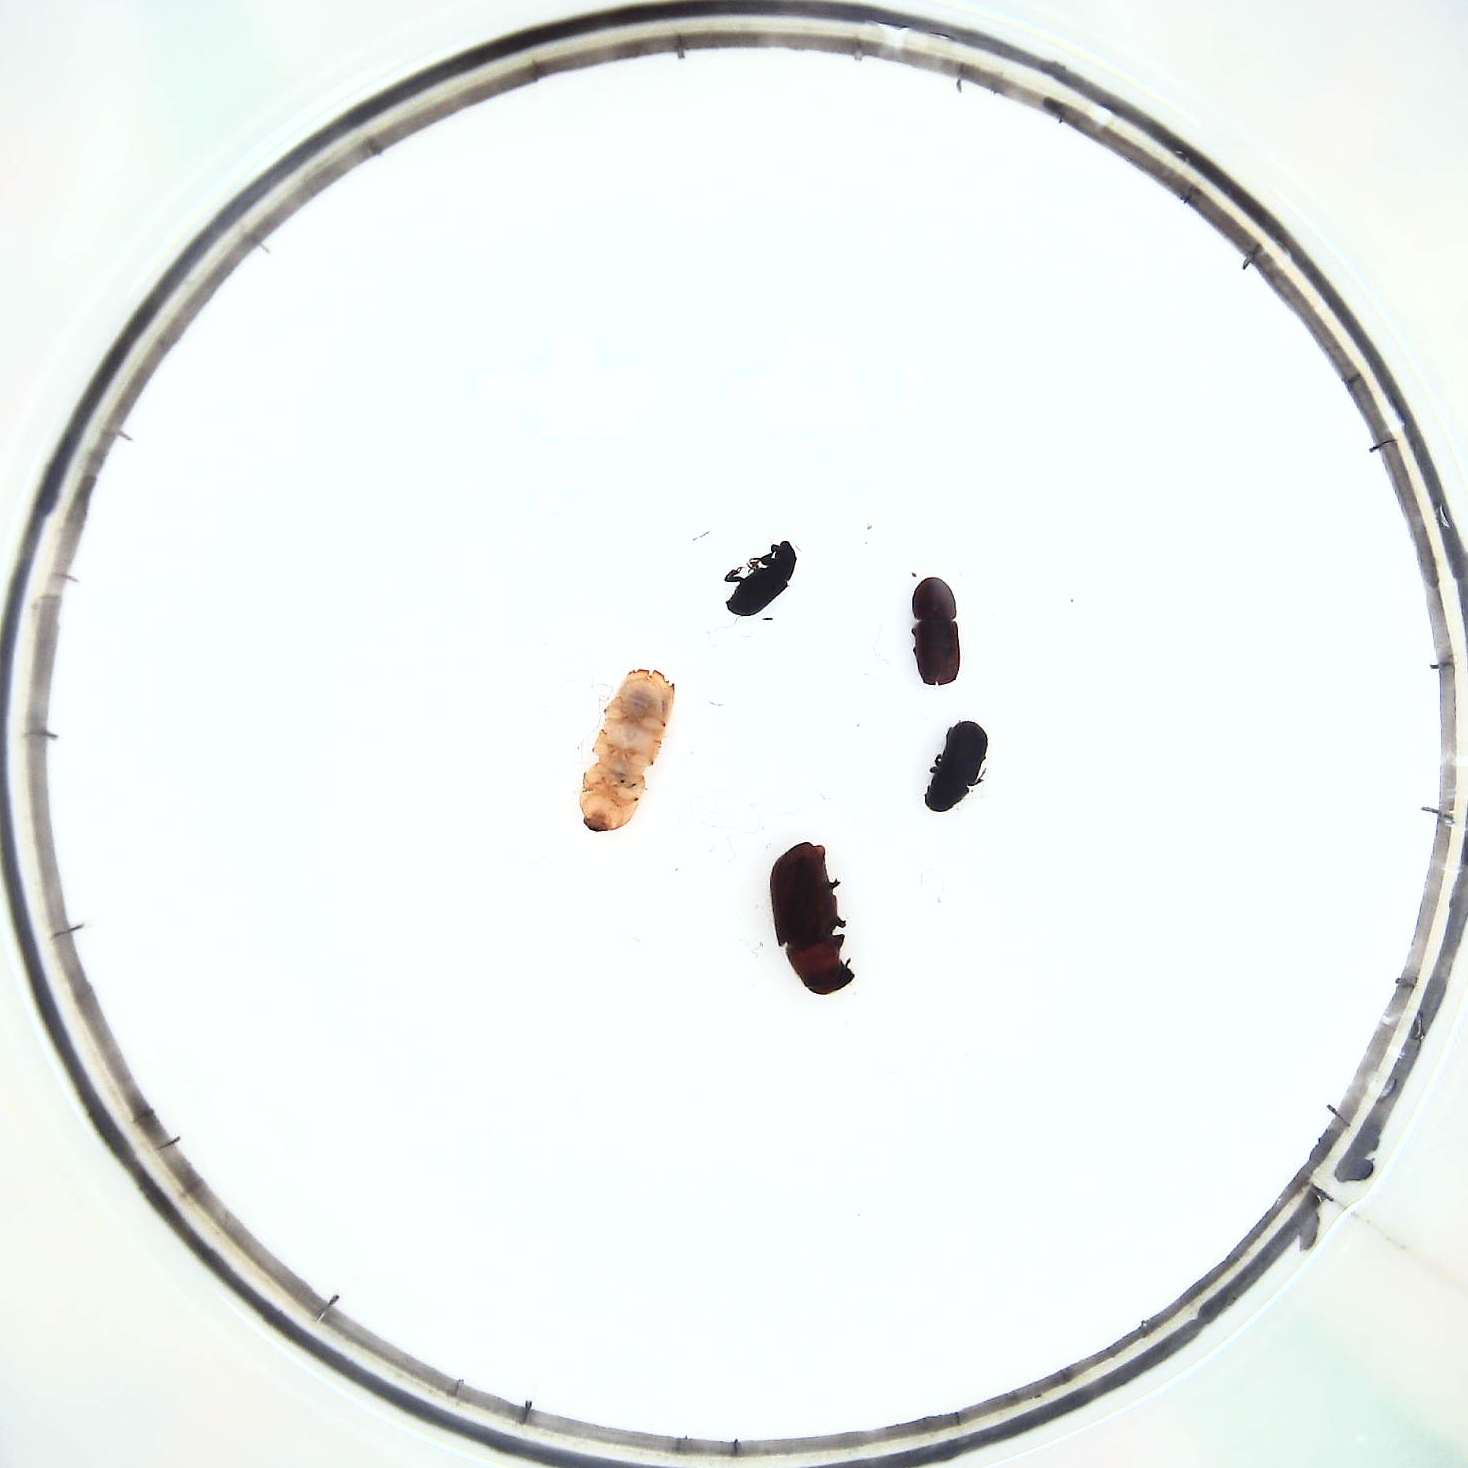Boerner: (574, 664, 674, 825)
Leconte: (764, 838, 864, 996)
Linnaeus: (907, 574, 964, 691)
armandi: (928, 717, 985, 813)
coleoptera: (718, 543, 799, 613)
